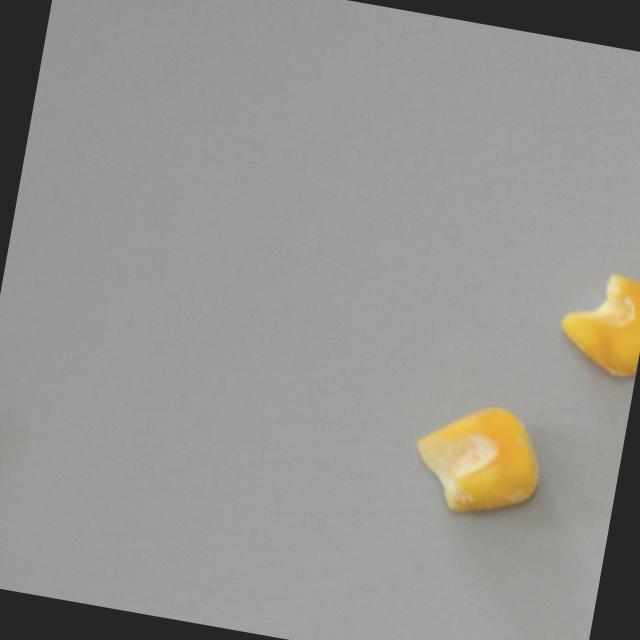no_canjicado: (553, 265, 640, 380)
pelicula: (407, 392, 552, 524)
